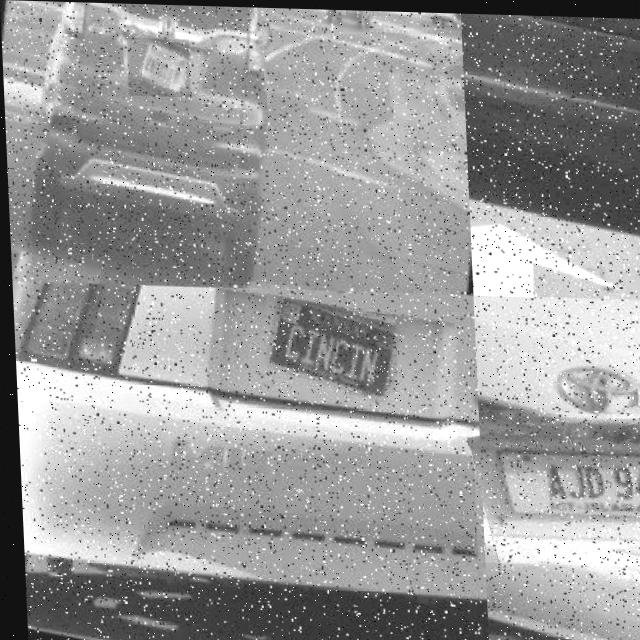LicensePlate: (468, 407, 640, 564), (255, 295, 391, 404), (126, 37, 190, 96), (336, 8, 346, 13)
